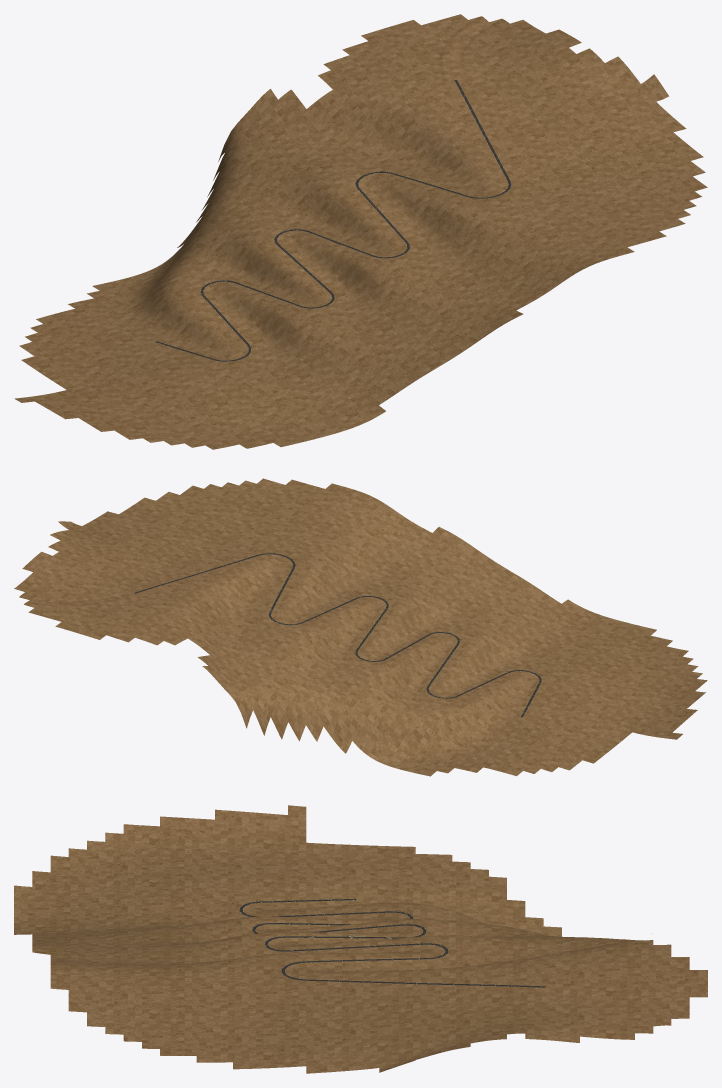
3 renders of one model, top to bottom at view 1: azimuth 30°, elevation 25°; view 2: azimuth 150°, elevation 25°; view 3: azimuth 270°, elevation 25°, orthographic. The views are drawn at different scales.
Visible parts, largest first — view 1: S03_TERRAIN_LOD1_WEB_EXPORT, S03_ROAD_ASPHALT_LOD1_WEB_EXPORT; view 2: S03_TERRAIN_LOD1_WEB_EXPORT, S03_ROAD_ASPHALT_LOD1_WEB_EXPORT; view 3: S03_TERRAIN_LOD1_WEB_EXPORT, S03_ROAD_ASPHALT_LOD1_WEB_EXPORT.
Part boxes in pixels (<box>): S03_TERRAIN_LOD1_WEB_EXPORT: <box>14,14,707,449</box>; S03_ROAD_ASPHALT_LOD1_WEB_EXPORT: <box>155,80,511,361</box>; S03_TERRAIN_LOD1_WEB_EXPORT: <box>14,478,707,776</box>; S03_ROAD_ASPHALT_LOD1_WEB_EXPORT: <box>134,553,541,717</box>; S03_TERRAIN_LOD1_WEB_EXPORT: <box>14,805,707,1073</box>; S03_ROAD_ASPHALT_LOD1_WEB_EXPORT: <box>239,898,545,987</box>.
Bounding box in the file's own units: 2080 × 403 × 1520.
Materials: 7 (7 with a texture image).
